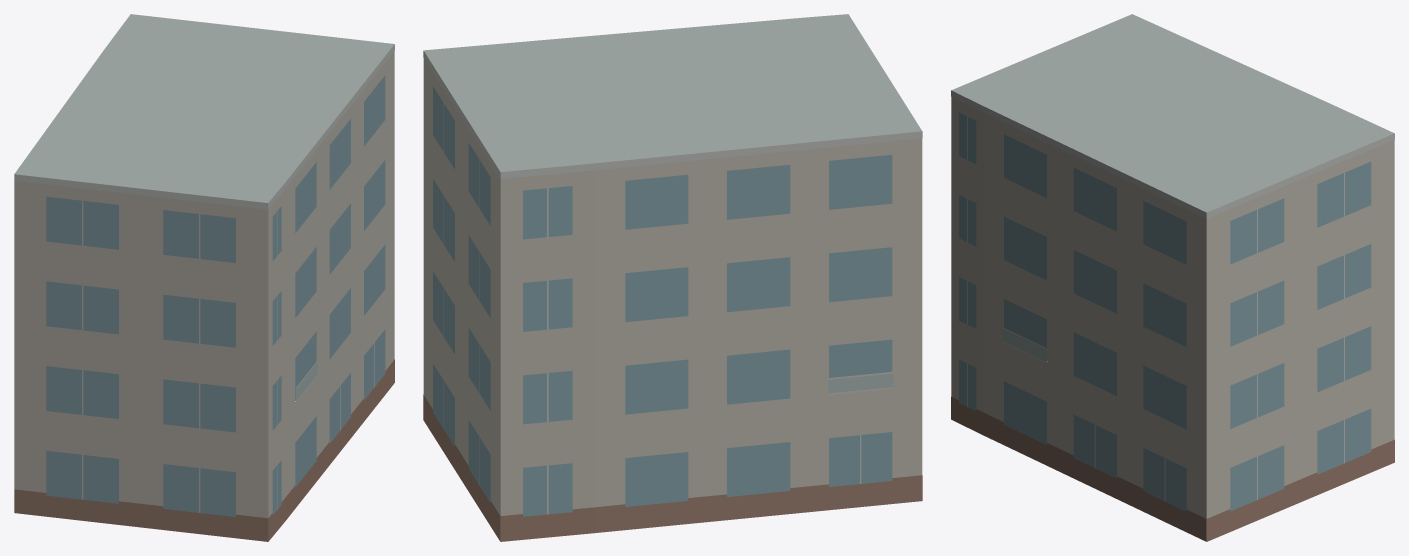
The model's file is survey-upis-33000700.glb.
3 views of the same model, side by side, from view 1: azimuth 30°, elevation 25°; view 2: azimuth 150°, elevation 25°; view 3: azimuth 270°, elevation 25° (orthographic). The views are drawn at different scales.
Visible parts, largest first — view 1: survey-upis-33000700.tmp; view 2: survey-upis-33000700.tmp; view 3: survey-upis-33000700.tmp.
Part boxes in pixels (x1,y1,x2,y2): survey-upis-33000700.tmp: (14,14,394,541); survey-upis-33000700.tmp: (423,14,922,541); survey-upis-33000700.tmp: (951,14,1394,541).
Size of the model in its own units: 16.57 by 12.8 by 15.64.
